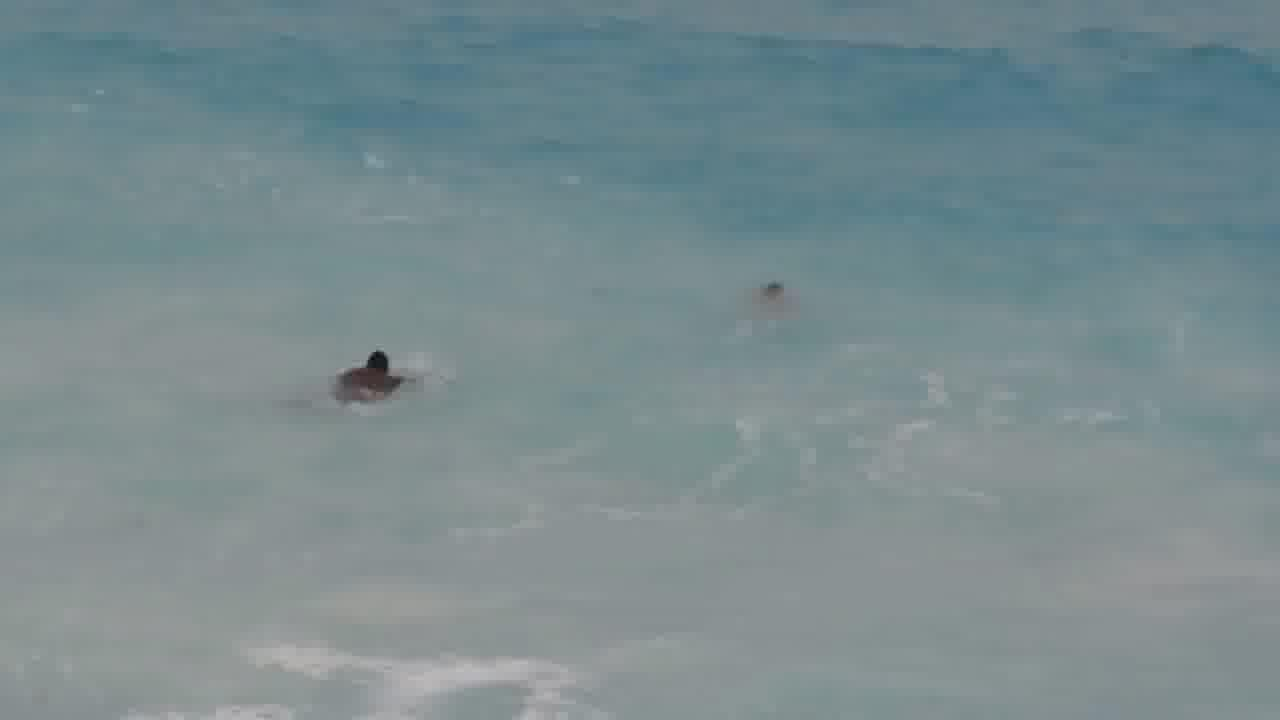human: (345, 339, 414, 390), (750, 269, 805, 307)
